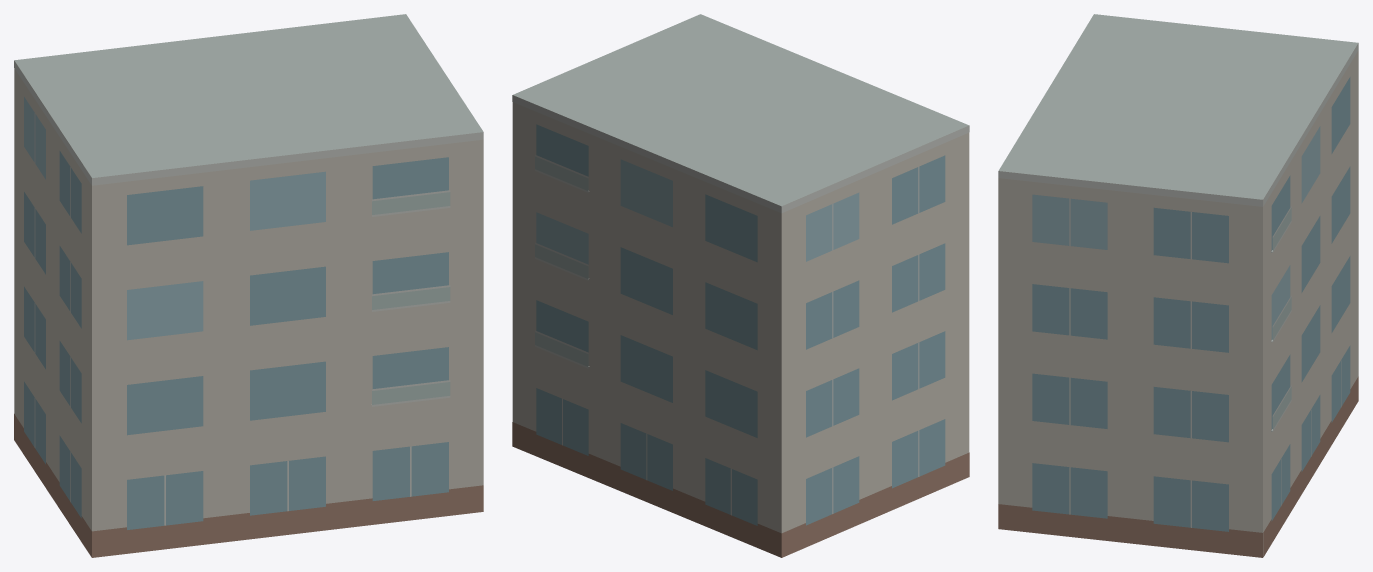
File: residential-43c4fc01-b499-44e1-9b1f-a5575a67f16a.glb
3 views of the same model, side by side, from view 1: azimuth 30°, elevation 25°; view 2: azimuth 150°, elevation 25°; view 3: azimuth 270°, elevation 25° (orthographic). The views are drawn at different scales.
Parts seen in each view (by area): view 1: residential-43c4fc01-b499-44e1-9b1f-a5575a67f16a.tmp; view 2: residential-43c4fc01-b499-44e1-9b1f-a5575a67f16a.tmp; view 3: residential-43c4fc01-b499-44e1-9b1f-a5575a67f16a.tmp.
Boxes of the visible parts, x1,y1,x2,y2 form: residential-43c4fc01-b499-44e1-9b1f-a5575a67f16a.tmp: (14,14,483,557); residential-43c4fc01-b499-44e1-9b1f-a5575a67f16a.tmp: (512,14,969,557); residential-43c4fc01-b499-44e1-9b1f-a5575a67f16a.tmp: (998,14,1358,557).
Bounding box in the file's own units: 13.59 × 12.2 × 11.13.
